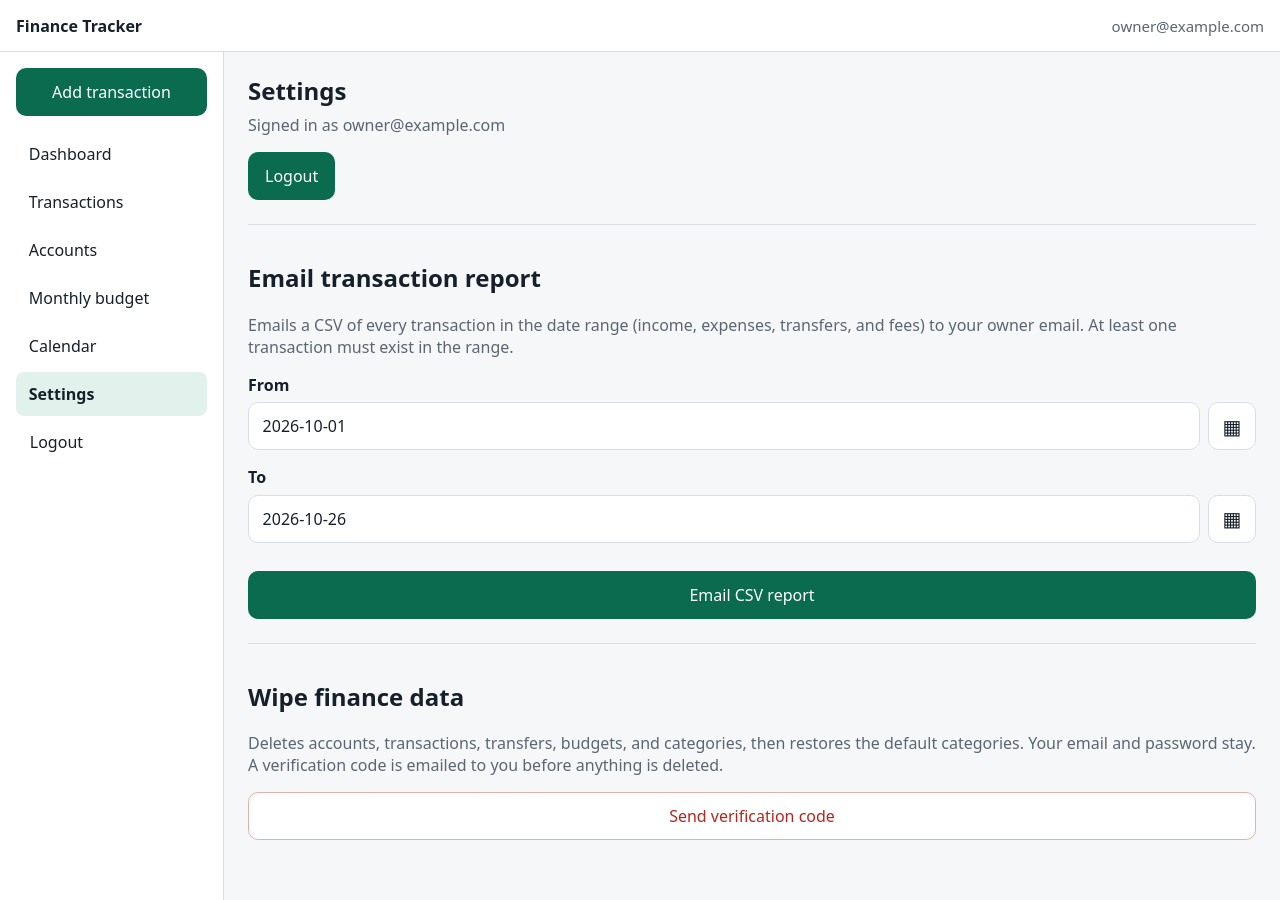
Scenario: logout › from the settings page sends the CSRF header, clears cached data and returns to /login
The image size is (1280, 900).
expect the text "owner@example.com" is shown: met, box [1112,16,1264,36]
Click the button "Logout" below "Signed in as". click: x=292, y=176
box: [248,152,335,200]
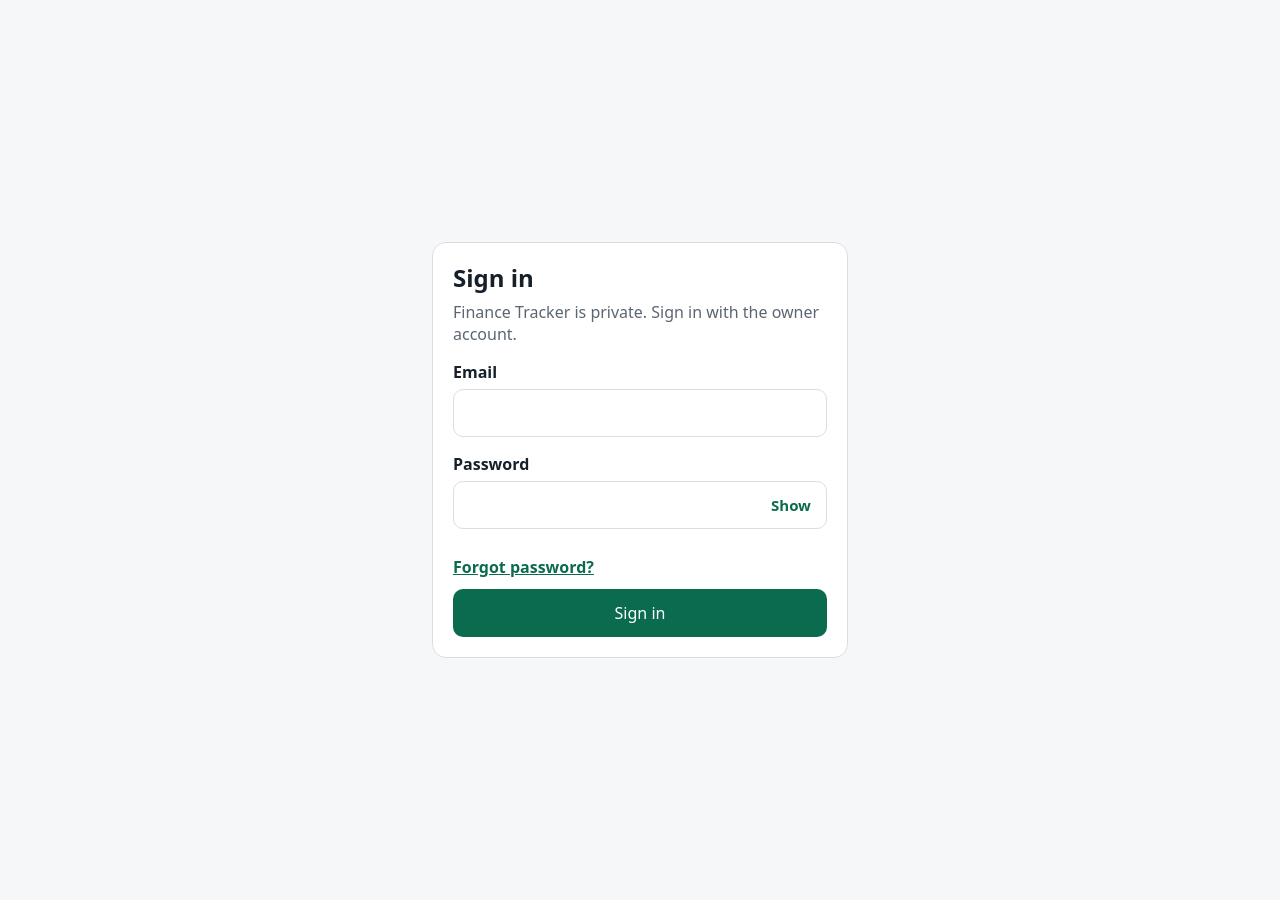
expect the button "Sign in" is shown: met, box [453,589,827,637]
